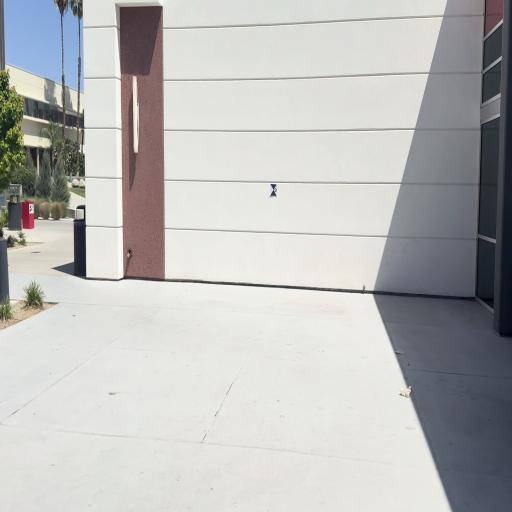target0: (270, 183, 277, 197)
